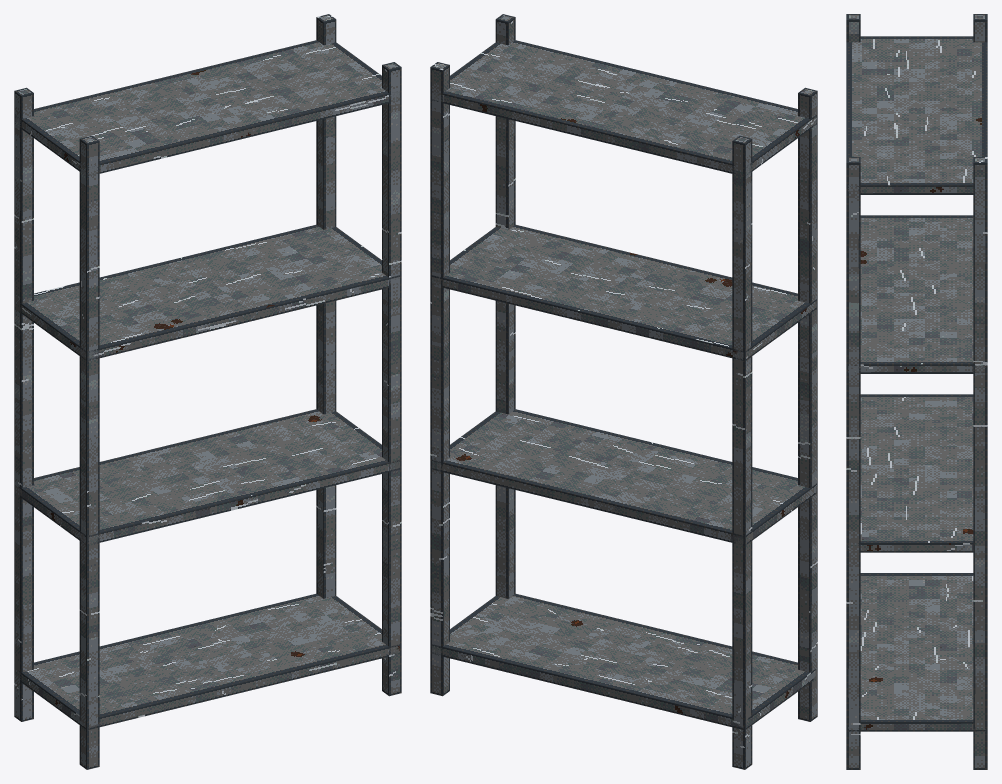
File: SM_Shelf_Steel_01.glb
3 views of the same model, side by side, from view 1: azimuth 30°, elevation 25°; view 2: azimuth 150°, elevation 25°; view 3: azimuth 270°, elevation 25° (orthographic). The views are drawn at different scales.
Parts seen in each view (by area): view 1: SM_Shelf_Steel_01; view 2: SM_Shelf_Steel_01; view 3: SM_Shelf_Steel_01.
Part boxes in pixels (x1=…): SM_Shelf_Steel_01: x1=14, y1=14, x2=401, y2=769; SM_Shelf_Steel_01: x1=430, y1=14, x2=817, y2=769; SM_Shelf_Steel_01: x1=846, y1=14, x2=987, y2=769.
Size of the model in its own units: 1 by 1.9 by 0.4.
Materials: 1 (1 with a texture image).
